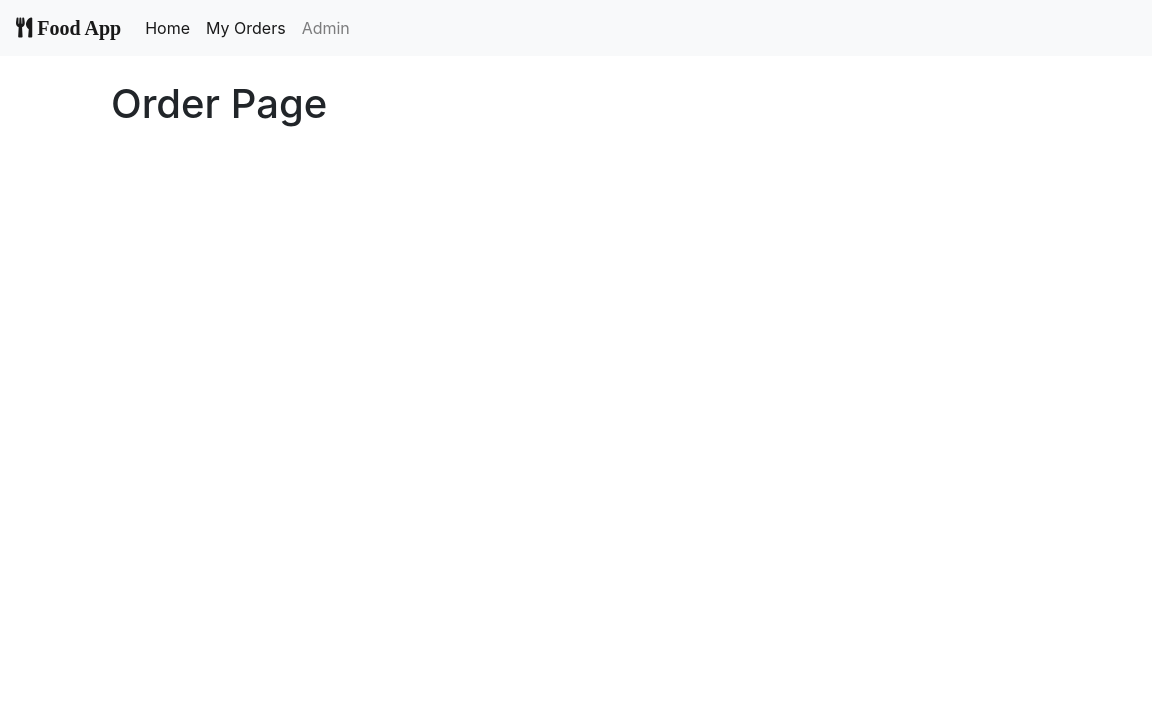
Test: Navigates to the create form when Create New button is clicked
Step 1. Click the link "Admin" → point(326, 28), box [302,18,350,38]
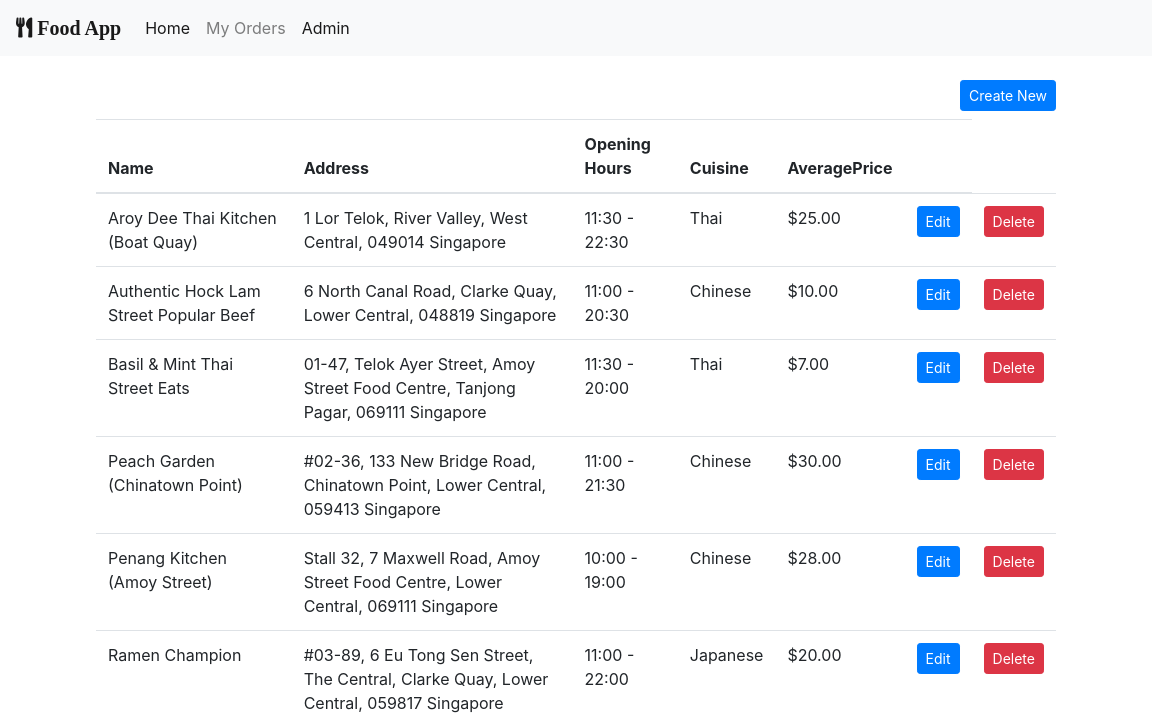
Step 2. Click the link "Create New" → point(1008, 96), box [960,80,1056,111]
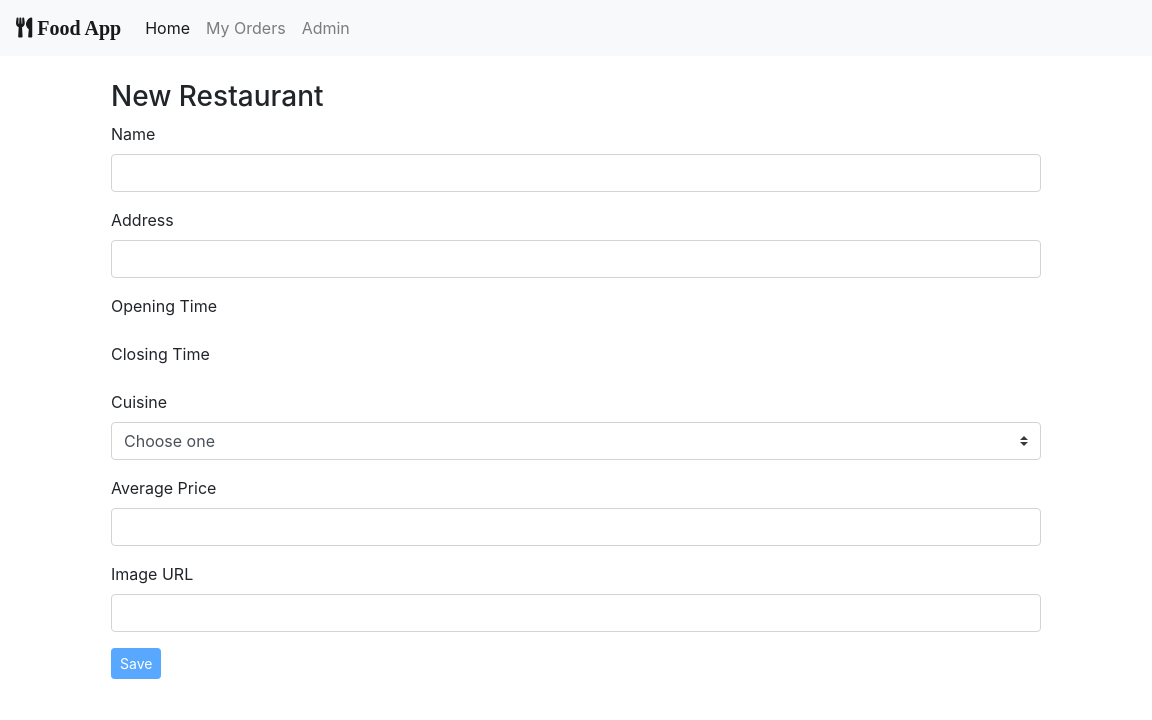
Expected: the element with test id "create-page" is shown
